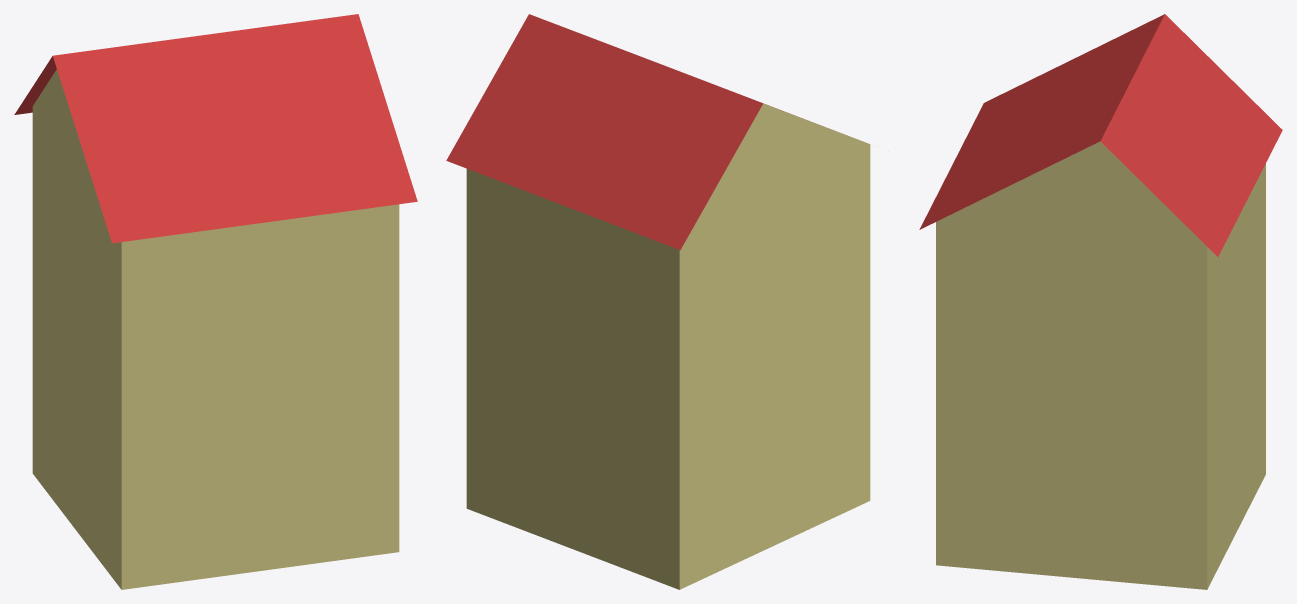
3 views of the same model, side by side, from view 1: azimuth 30°, elevation 25°; view 2: azimuth 150°, elevation 25°; view 3: azimuth 270°, elevation 25° (orthographic). The views are drawn at different scales.
Bounding box in the file's own units: 6.46 × 6.42 × 8.68.
